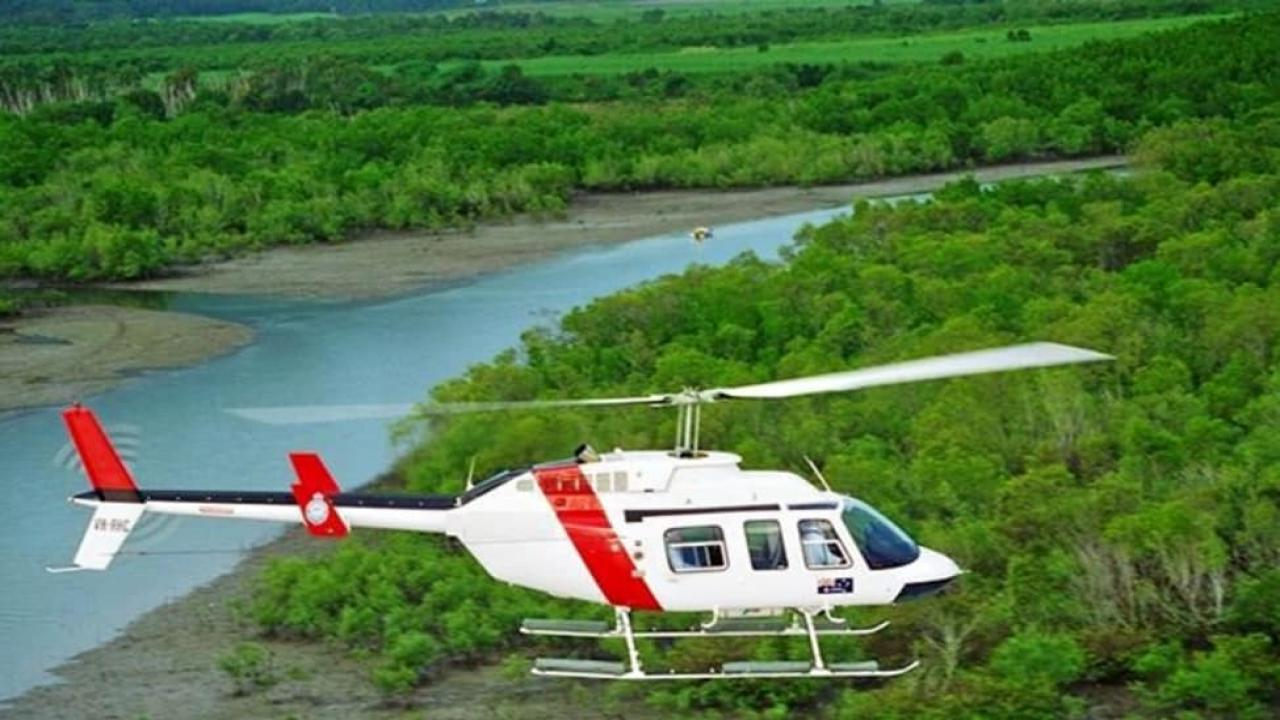Helicopter: (36, 327, 1142, 695)
